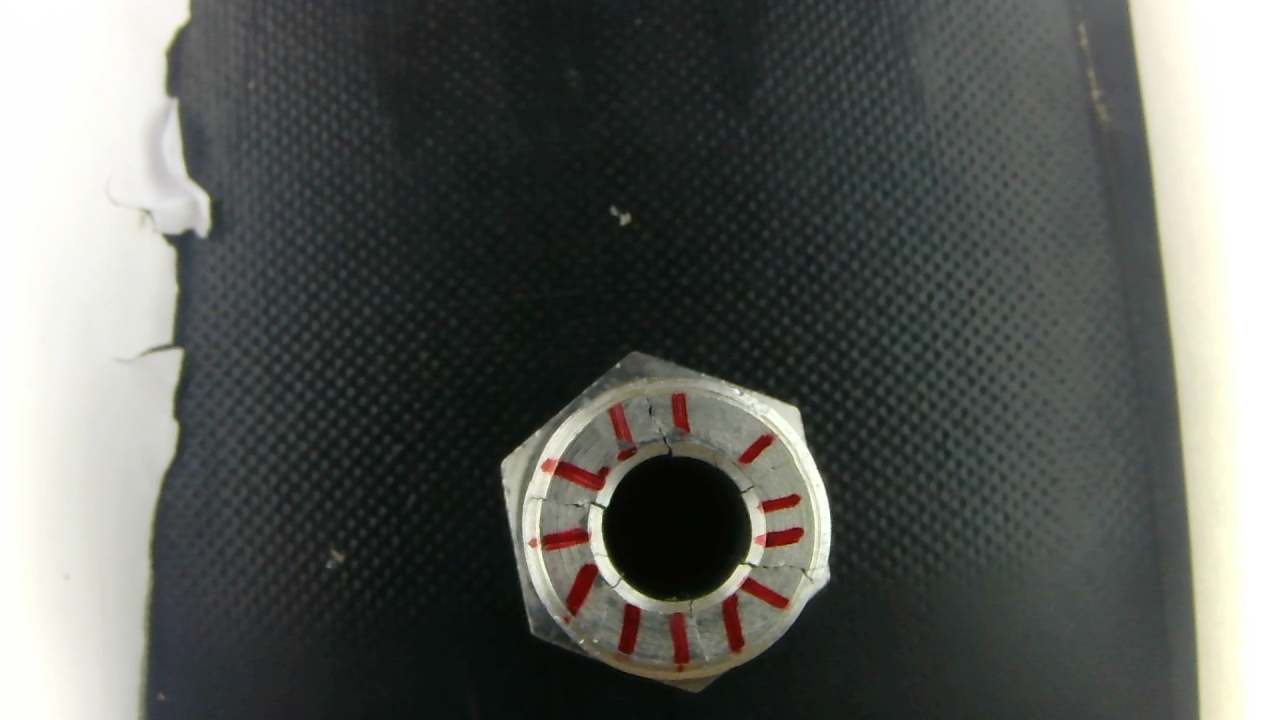crack: (520, 480, 622, 521)
